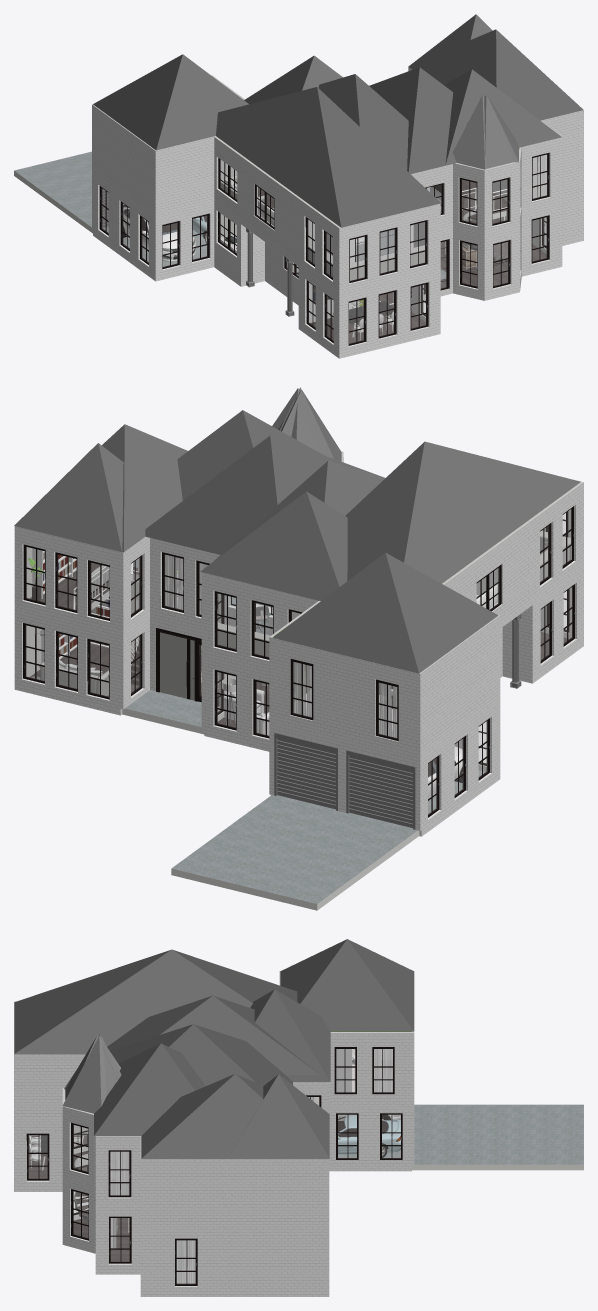
The model's file is modern_dream_house.glb.
3 renders of one model, top to bottom at view 1: azimuth 30°, elevation 25°; view 2: azimuth 150°, elevation 25°; view 3: azimuth 270°, elevation 25°, orthographic. The views are drawn at different scales.
Visible parts, largest first — view 1: Object_59, Object_19, Object_54, Object_55, Object_9, Object_17, Object_11, Object_52, Object_43, Object_31, Object_103, Object_72 (+1 smaller); view 2: Object_59, Object_19, Object_9, Object_54, Object_55, Object_8, Object_103, Object_52, Object_43, Object_17, Object_38, Object_11 (+2 smaller); view 3: Object_59, Object_19, Object_9, Object_54, Object_55, Object_103, Object_17, Object_8, Object_41, Object_46.
Part boxes in pixels (left/top/right/bottom): Object_59: left=93, top=14, right=583, bottom=316; Object_19: left=92, top=67, right=583, bottom=358; Object_54: left=102, top=155, right=547, bottom=343; Object_55: left=99, top=153, right=549, bottom=345; Object_9: left=14, top=151, right=206, bottom=266; Object_17: left=258, top=179, right=546, bottom=343; Object_11: left=220, top=157, right=546, bottom=322; Object_52: left=123, top=187, right=507, bottom=339; Object_43: left=171, top=175, right=502, bottom=280; Object_31: left=92, top=75, right=582, bottom=294; Object_103: left=532, top=154, right=546, bottom=198; Object_72: left=356, top=229, right=394, bottom=261; Object_59: left=14, top=387, right=580, bottom=829; Object_19: left=14, top=482, right=583, bottom=836; Object_9: left=125, top=690, right=485, bottom=903; Object_54: left=26, top=509, right=572, bottom=814; Object_55: left=23, top=506, right=574, bottom=817; Object_8: left=26, top=547, right=419, bottom=910; Object_103: left=165, top=554, right=397, bottom=737; Object_52: left=32, top=548, right=497, bottom=801; Object_43: left=39, top=531, right=571, bottom=695; Object_17: left=30, top=562, right=568, bottom=727; Object_38: left=160, top=583, right=269, bottom=700; Object_11: left=201, top=509, right=571, bottom=771; Object_59: left=14, top=939, right=414, bottom=1233; Object_19: left=14, top=1033, right=414, bottom=1296; Object_9: left=338, top=1104, right=583, bottom=1164; Object_54: left=29, top=1049, right=400, bottom=1283; Object_55: left=26, top=1047, right=402, bottom=1285; Object_103: left=110, top=1049, right=392, bottom=1283; Object_17: left=28, top=1136, right=129, bottom=1261; Object_8: left=412, top=1164, right=583, bottom=1170; Object_41: left=338, top=1115, right=400, bottom=1154; Object_46: left=30, top=1049, right=351, bottom=1160.
Size of the model in its own units: 17.92 by 9.65 by 22.97.
Materials: 99 (77 with a texture image).
